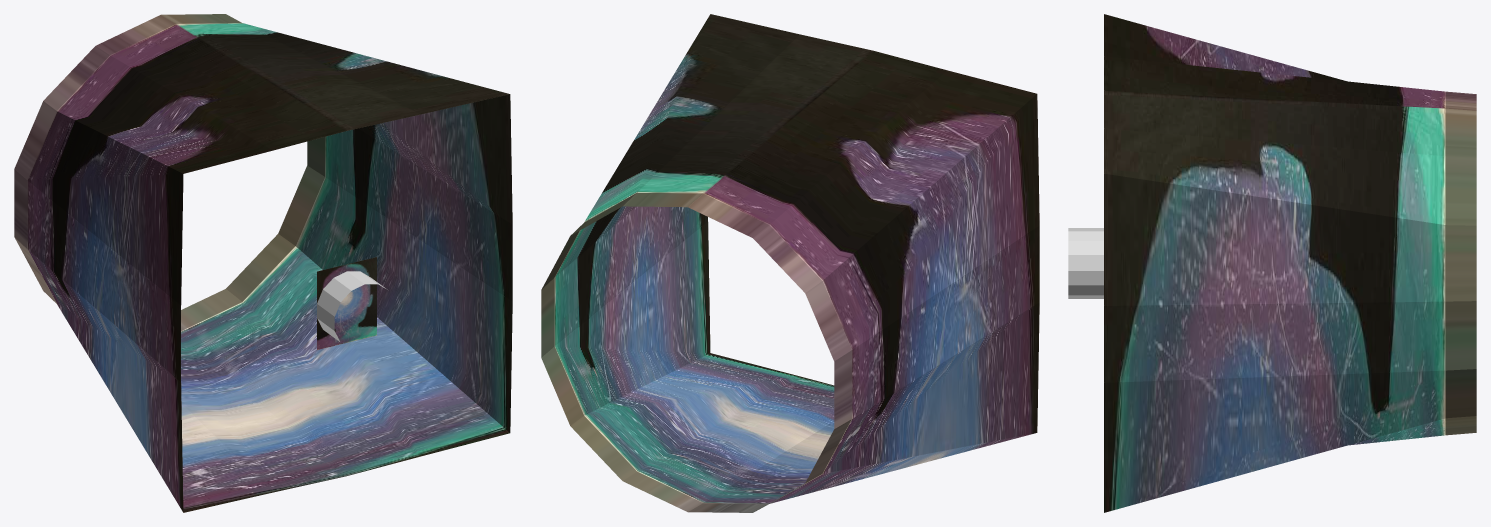
3 renders of one model, left to right at view 1: azimuth 30°, elevation 25°; view 2: azimuth 150°, elevation 25°; view 3: azimuth 270°, elevation 25°, orthographic.
Visible parts, largest first — view 1: SquareCircle, Plane, Cylinder; view 2: SquareCircle; view 3: SquareCircle, Cylinder.
Boxes of the visible parts, x1=… form: SquareCircle: x1=14, y1=14, x2=512, y2=512; Plane: x1=317, y1=257, x2=376, y2=349; Cylinder: x1=317, y1=271, x2=387, y2=341; SquareCircle: x1=541, y1=14, x2=1039, y2=512; SquareCircle: x1=1104, y1=14, x2=1476, y2=512; Cylinder: x1=1068, y1=228, x2=1103, y2=298.
Size of the model in its own units: 2.24 by 2.23 by 2.39.
1 material, 1 textured.
